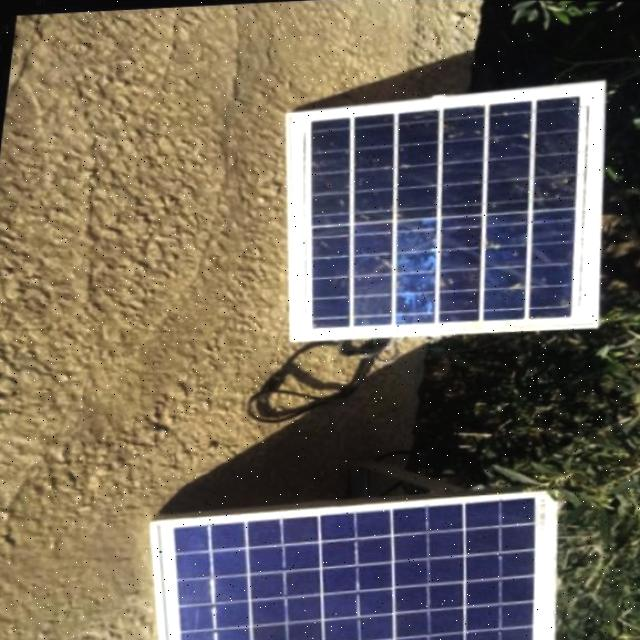Normal Solar Panel: (133, 461, 582, 640)
